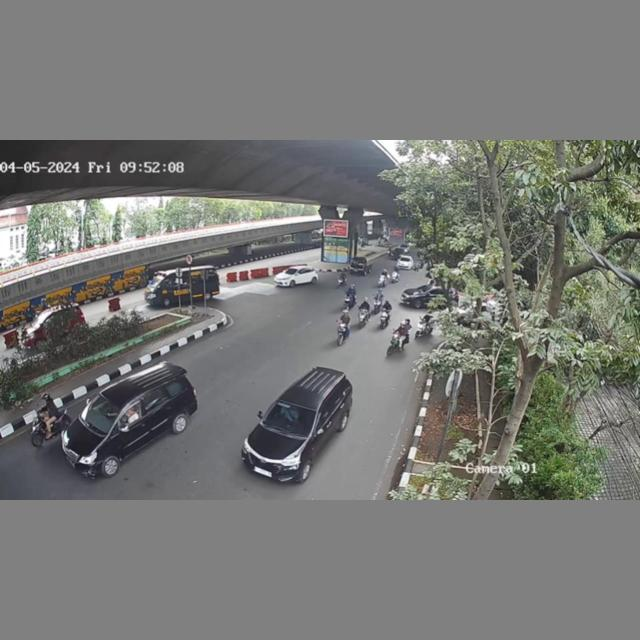windshield: (263, 399, 316, 437)
